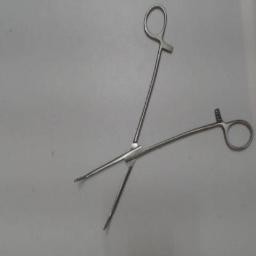Lahey Forceps: (71, 1, 255, 233)
